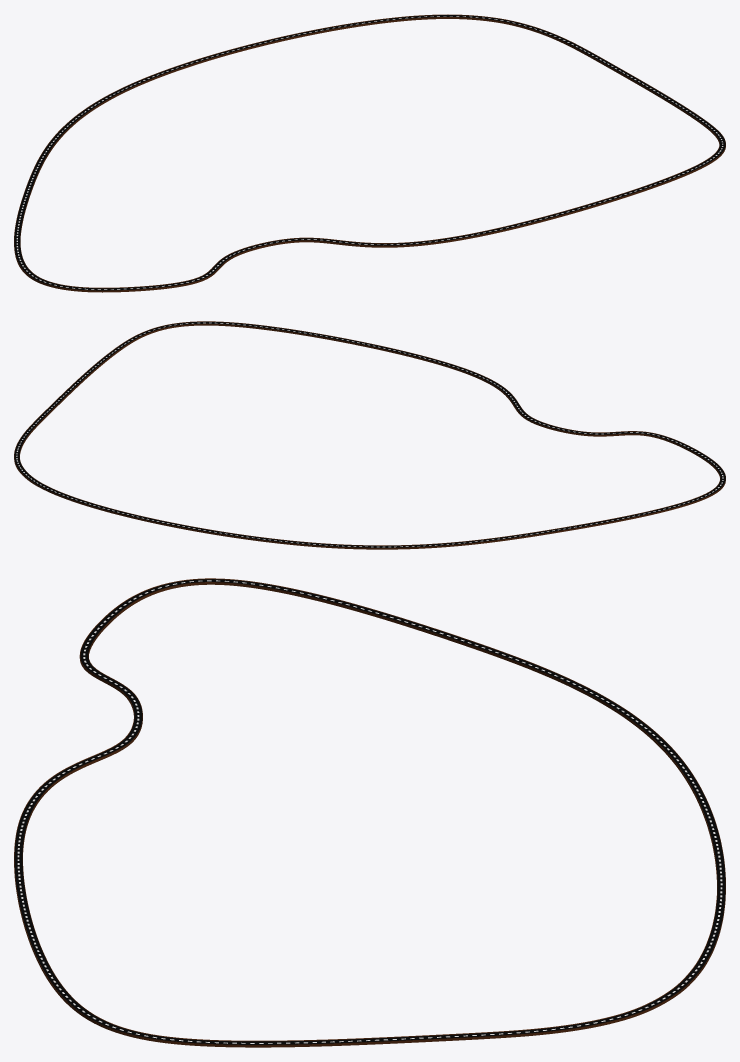
File: roadflat3fbx.fbx
3 views of the same model, one above another, from view 1: azimuth 30°, elevation 25°; view 2: azimuth 150°, elevation 25°; view 3: azimuth 270°, elevation 25° (orthographic). The views are drawn at different scales.
Visible parts, largest first — view 1: road tile.sample.001; view 2: road tile.sample.001; view 3: road tile.sample.001.
Boxes of the visible parts, x1,y1,x2,y2 form: road tile.sample.001: [14, 14, 725, 292]; road tile.sample.001: [14, 321, 725, 549]; road tile.sample.001: [14, 578, 725, 1047].
Bounding box in the file's own units: 1501 × 26.56 × 996.
